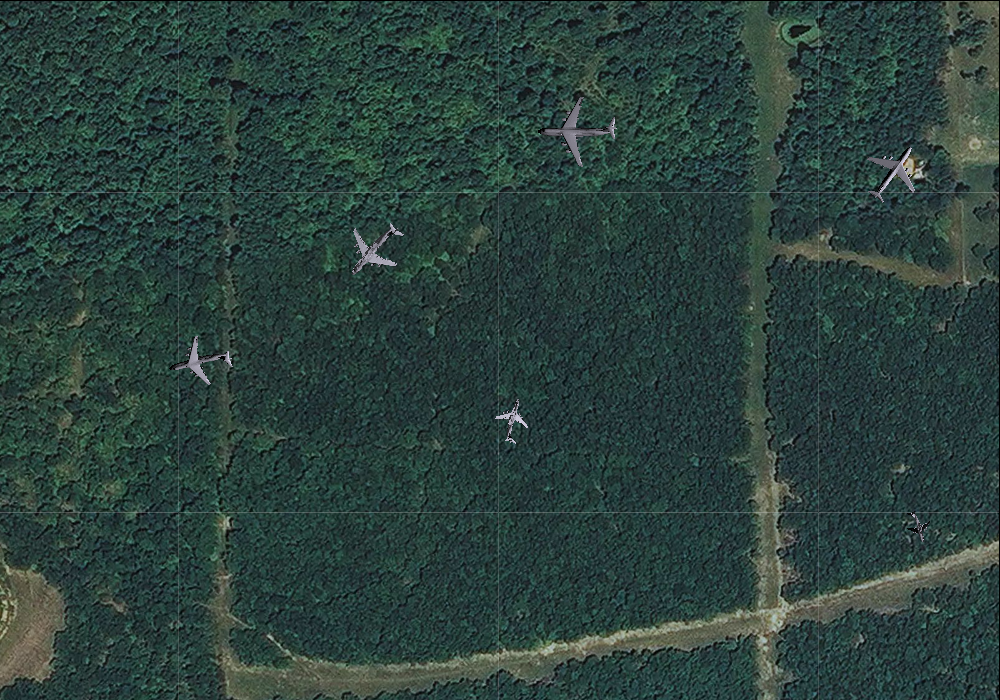plane: (329, 205, 419, 296), (850, 129, 935, 215), (537, 91, 617, 168), (162, 326, 238, 399), (488, 394, 539, 448), (899, 507, 936, 546)
